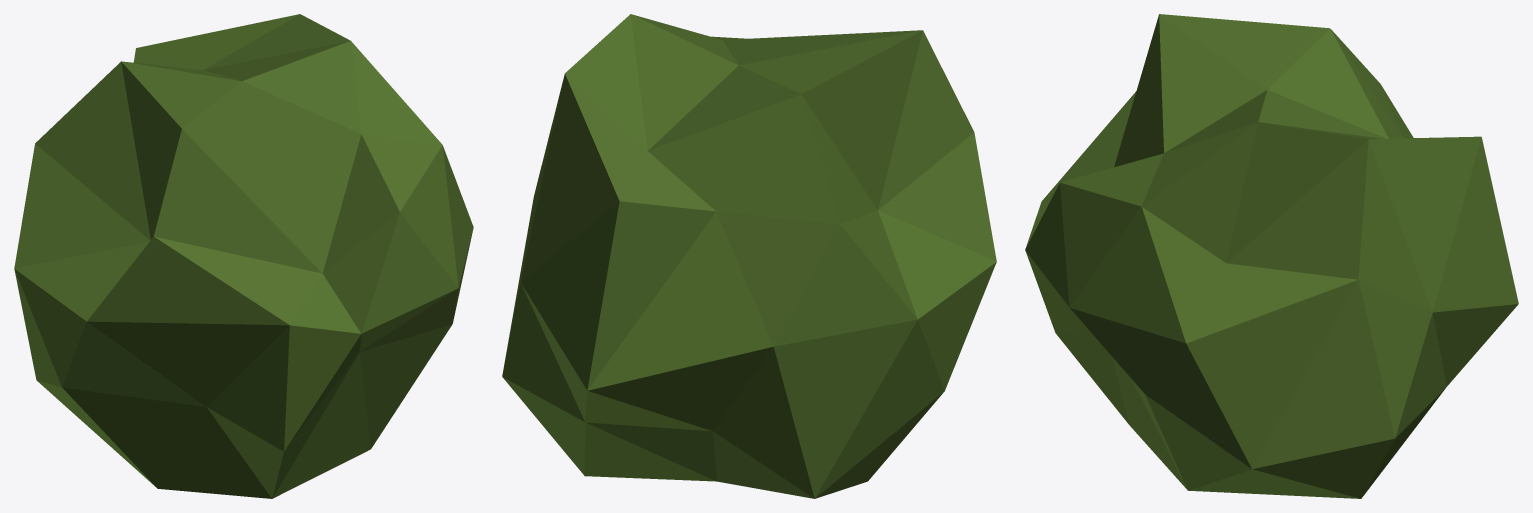
Rendered from bush1.fbx.
The picture shows the model from 3 angles, left to right: view 1: azimuth 30°, elevation 25°; view 2: azimuth 150°, elevation 25°; view 3: azimuth 270°, elevation 25°; orthographic projection. The views are drawn at different scales.
Visible parts, largest first — view 1: Bush; view 2: Bush; view 3: Bush.
Part boxes in pixels (x1,y1,x2,y2): Bush: (14,14,473,498); Bush: (502,14,996,498); Bush: (1025,14,1518,498).
Bounding box in the file's own units: 133 × 128 × 148.
